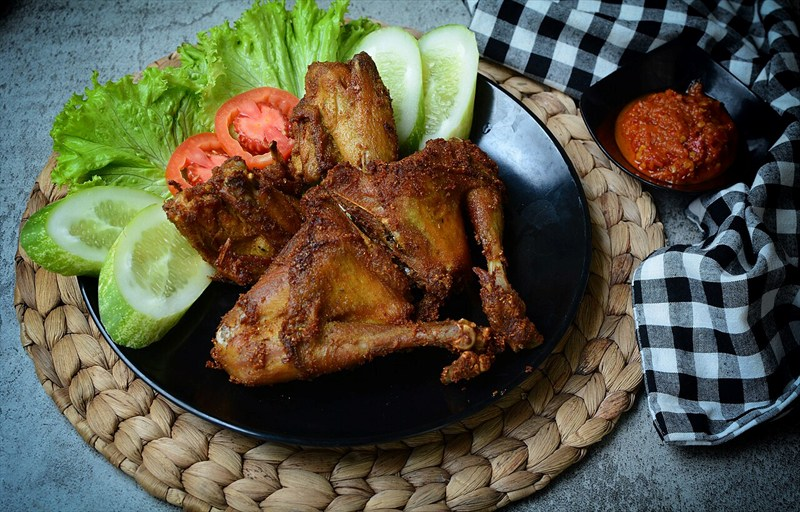Ayam Goreng: (87, 20, 748, 385)
